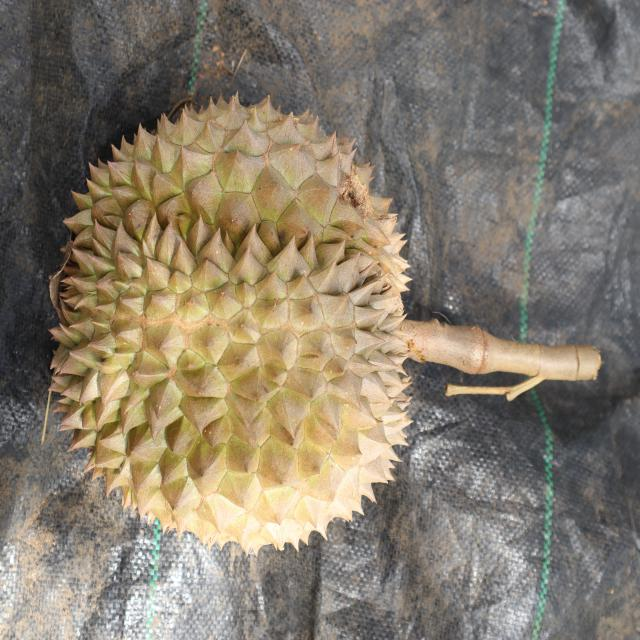mature: (45, 89, 416, 560)
